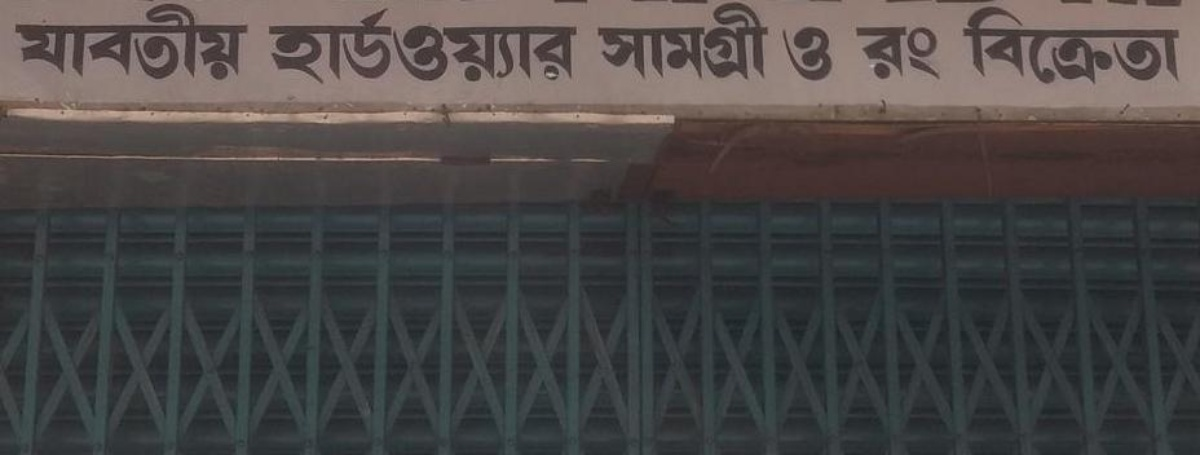text: (273, 3, 288, 97), (289, 3, 304, 97), (305, 3, 320, 97), (321, 3, 336, 97), (337, 3, 352, 97), (353, 3, 368, 97), (369, 3, 384, 97), (385, 3, 400, 97), (401, 3, 416, 97), (417, 3, 432, 97), (433, 3, 448, 97), (449, 3, 464, 97), (465, 3, 480, 97), (481, 3, 496, 97), (497, 3, 512, 97), (513, 3, 528, 97), (529, 3, 544, 97), (545, 3, 560, 97), (561, 3, 576, 97), (17, 2, 32, 92), (33, 2, 48, 92), (49, 2, 64, 92), (65, 2, 80, 92), (81, 2, 96, 92), (97, 2, 112, 92), (113, 2, 128, 92), (129, 2, 144, 92), (145, 2, 160, 92), (161, 2, 176, 92), (177, 2, 192, 92), (193, 2, 208, 92), (209, 2, 224, 92), (225, 2, 240, 92), (241, 2, 256, 92), (961, 3, 976, 91), (977, 3, 992, 91), (993, 3, 1008, 91), (1009, 3, 1024, 91), (1025, 3, 1040, 91), (1041, 3, 1056, 91), (1057, 3, 1072, 91), (1073, 3, 1088, 91), (1089, 3, 1104, 91), (1105, 3, 1120, 91), (1121, 3, 1136, 91), (1137, 3, 1152, 91), (1153, 3, 1168, 91), (1169, 3, 1184, 91), (258, 3, 272, 97), (593, 1, 608, 87), (609, 1, 624, 87), (625, 1, 640, 87), (641, 1, 656, 87), (657, 1, 672, 87), (673, 1, 688, 87), (689, 1, 704, 87), (705, 1, 720, 87), (721, 1, 736, 87), (737, 1, 752, 87), (753, 1, 768, 87), (833, 12, 849, 90), (785, 12, 800, 90), (801, 12, 816, 90), (817, 12, 832, 90), (865, 21, 880, 88), (881, 21, 896, 88), (897, 21, 912, 88), (913, 21, 928, 88), (929, 21, 944, 88), (772, 12, 784, 90), (851, 21, 864, 88), (577, 3, 586, 97), (945, 21, 954, 88), (769, 1, 776, 87), (10, 2, 16, 92), (954, 3, 960, 91), (1185, 3, 1189, 91), (588, 1, 592, 87), (257, 2, 258, 92)
